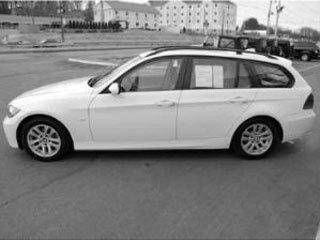car: (5, 47, 318, 162)
